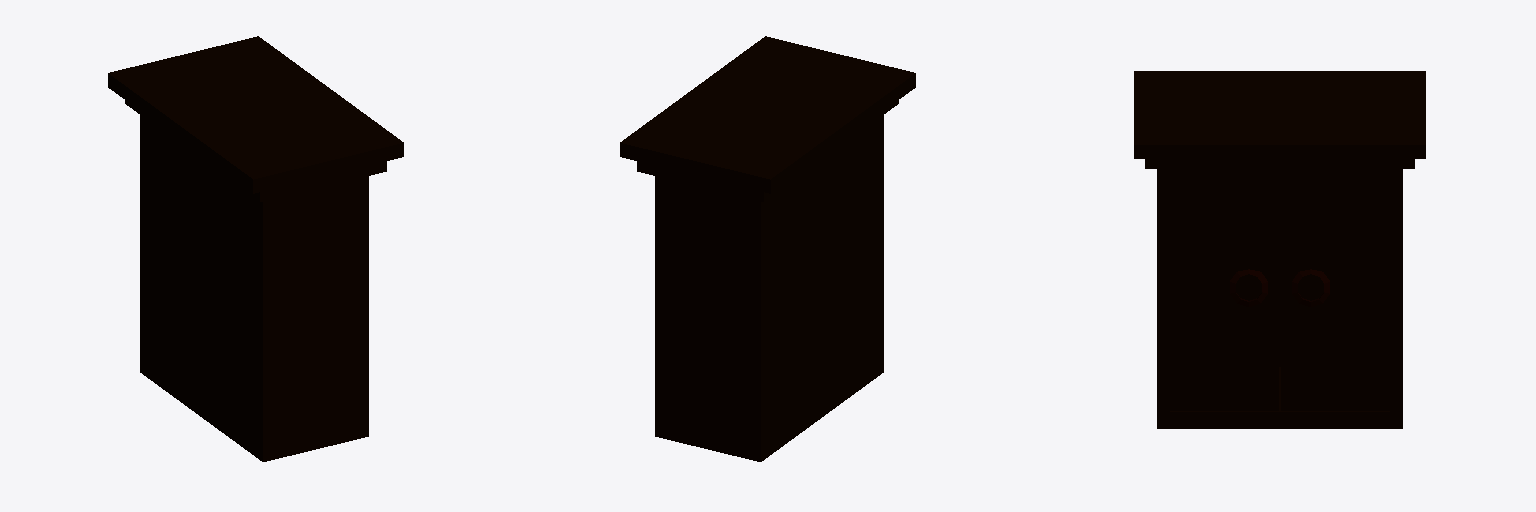
File: Wardrobe.obj
3 renders of one model, left to right at view 1: azimuth 30°, elevation 25°; view 2: azimuth 150°, elevation 25°; view 3: azimuth 270°, elevation 25°, orthographic.
Parts seen in each view (by area): view 1: Wardrobe_Cube; view 2: Wardrobe_Cube; view 3: Wardrobe_Cube.
Part boxes in pixels (x1,y1,x2,y2): Wardrobe_Cube: (108, 36, 403, 461); Wardrobe_Cube: (620, 36, 915, 461); Wardrobe_Cube: (1134, 71, 1425, 428).
Size of the model in its own units: 2.18 by 4.09 by 3.65.